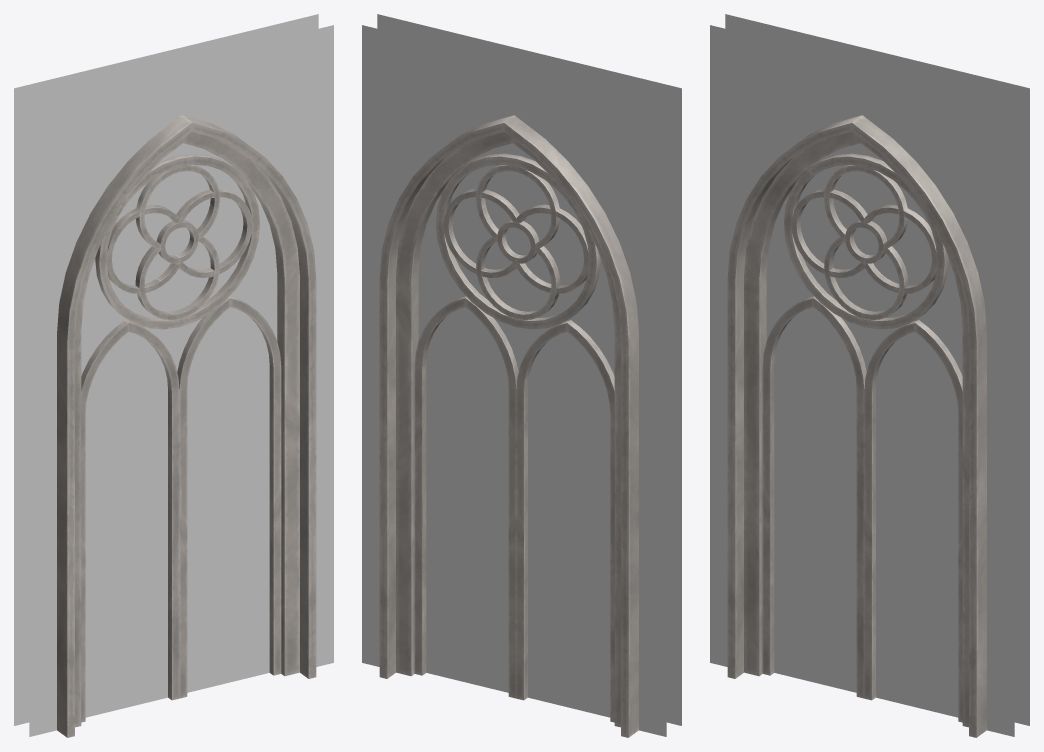
The model's file is Wall_Window_E_C.fbx.
The picture shows the model from 3 angles, left to right: view 1: azimuth 30°, elevation 25°; view 2: azimuth 150°, elevation 25°; view 3: azimuth 330°, elevation 25°; orthographic projection.
Visible parts, largest first — view 1: Wall_Window_E_C; view 2: Wall_Window_E_C; view 3: Wall_Window_E_C.
Boxes of the visible parts, x1,y1,x2,y2 form: Wall_Window_E_C: (14,14,333,737); Wall_Window_E_C: (362,14,681,737); Wall_Window_E_C: (710,14,1029,737).
Size of the model in its own units: 3 by 0.6115 by 6.
